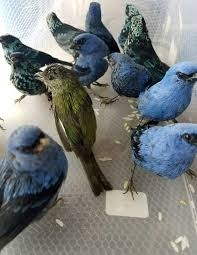bird: (31, 60, 117, 196), (0, 122, 70, 248), (123, 119, 197, 203), (0, 29, 74, 102), (115, 2, 174, 80), (130, 59, 196, 123), (65, 32, 115, 103), (101, 50, 157, 105), (82, 0, 124, 55), (44, 10, 86, 56)
